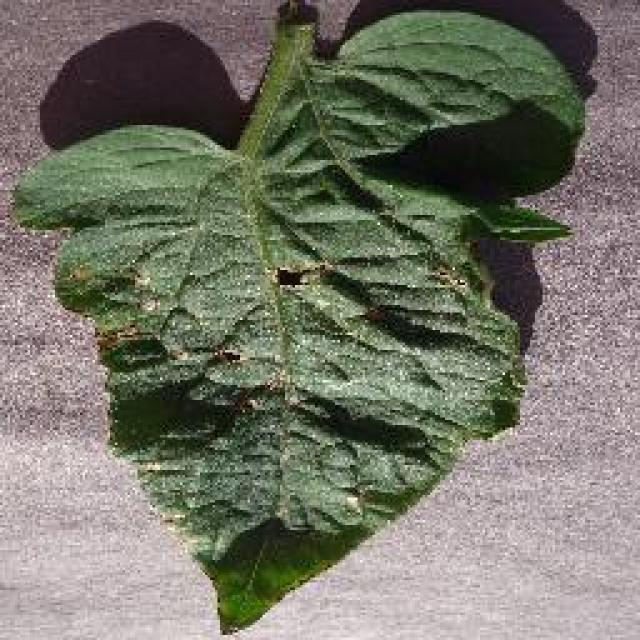Tomato___Target_Spot: (12, 5, 582, 630)
